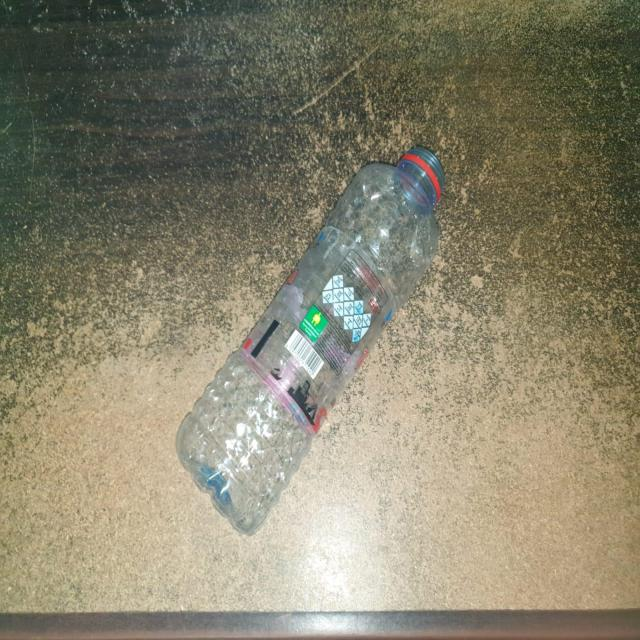bottle: (166, 125, 447, 536)
